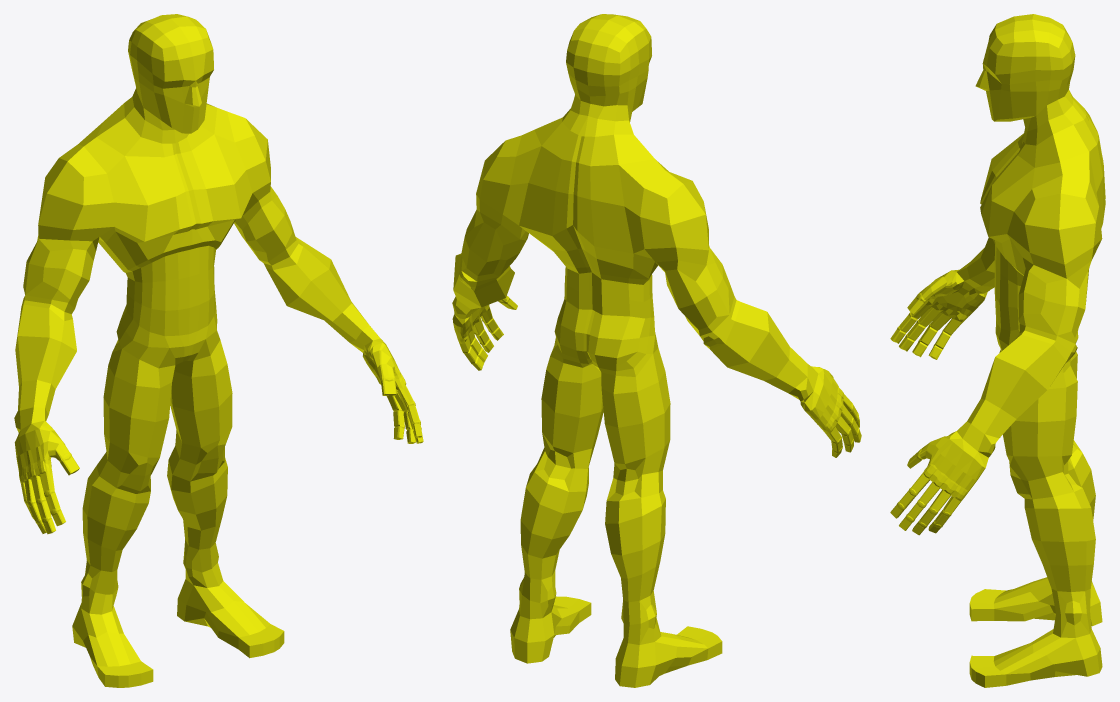
The model's file is m_char.fbx.
The picture shows the model from 3 angles, left to right: view 1: azimuth 30°, elevation 25°; view 2: azimuth 150°, elevation 25°; view 3: azimuth 270°, elevation 25°; orthographic projection.
Visible parts, largest first — view 1: sm_character; view 2: sm_character; view 3: sm_character.
Boxes of the visible parts, x1,y1,x2,y2 form: sm_character: (14,14,423,687); sm_character: (452,14,861,687); sm_character: (890,14,1105,687).
Bounding box in the file's own units: 120 × 188 × 58.72.
